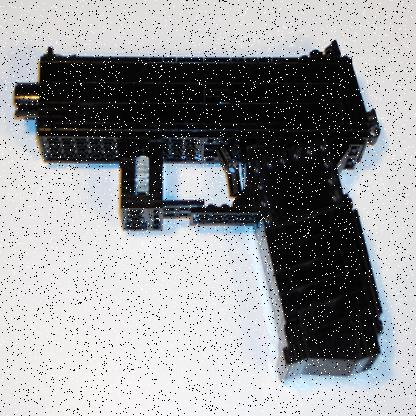pistol: (13, 39, 383, 382)
